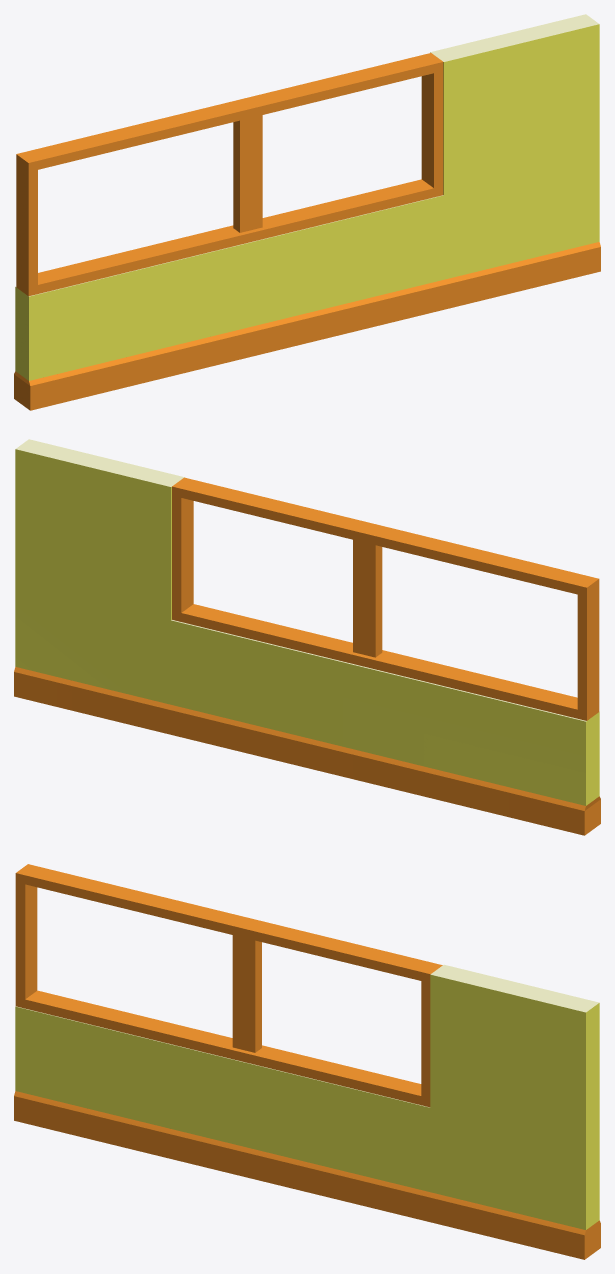
The model's file is Wall_02.fbx.
3 renders of one model, top to bottom at view 1: azimuth 30°, elevation 25°; view 2: azimuth 150°, elevation 25°; view 3: azimuth 330°, elevation 25°, orthographic.
Parts seen in each view (by area): view 1: Wall_02; view 2: Wall_02; view 3: Wall_02.
Part boxes in pixels (left/top/right/bottom): Wall_02: left=14, top=14, right=600, bottom=410; Wall_02: left=14, top=439, right=600, bottom=835; Wall_02: left=14, top=864, right=600, bottom=1259.
Size of the model in its own units: 286 by 118 by 14.18.
